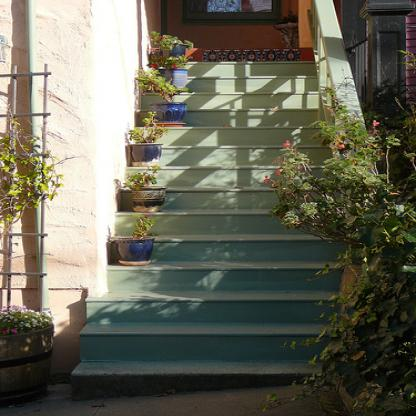stairs: (120, 278, 305, 392)
